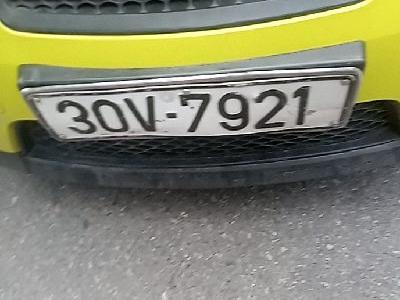car: (21, 67, 362, 143)
